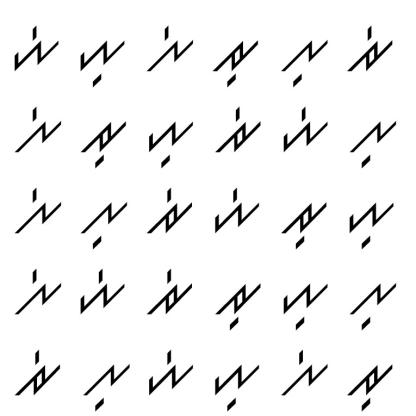le: (146, 20, 199, 80), (10, 102, 67, 156), (279, 345, 330, 401), (10, 264, 62, 318), (12, 186, 62, 236)
lu: (274, 33, 330, 89), (79, 355, 134, 411), (348, 277, 398, 334), (79, 195, 130, 249), (350, 114, 400, 169)
re: (12, 346, 64, 400), (144, 264, 195, 319), (213, 105, 263, 158), (144, 188, 194, 239), (346, 25, 394, 75)
ru: (340, 358, 396, 412), (211, 277, 264, 332), (278, 196, 329, 252), (79, 114, 128, 170), (213, 34, 261, 88)
ye: (7, 20, 62, 70), (145, 348, 194, 402), (210, 186, 260, 238), (279, 107, 330, 156), (78, 268, 127, 316)
yu: (275, 276, 336, 330), (74, 35, 131, 90), (344, 196, 400, 251), (208, 359, 262, 414), (144, 114, 196, 168)
